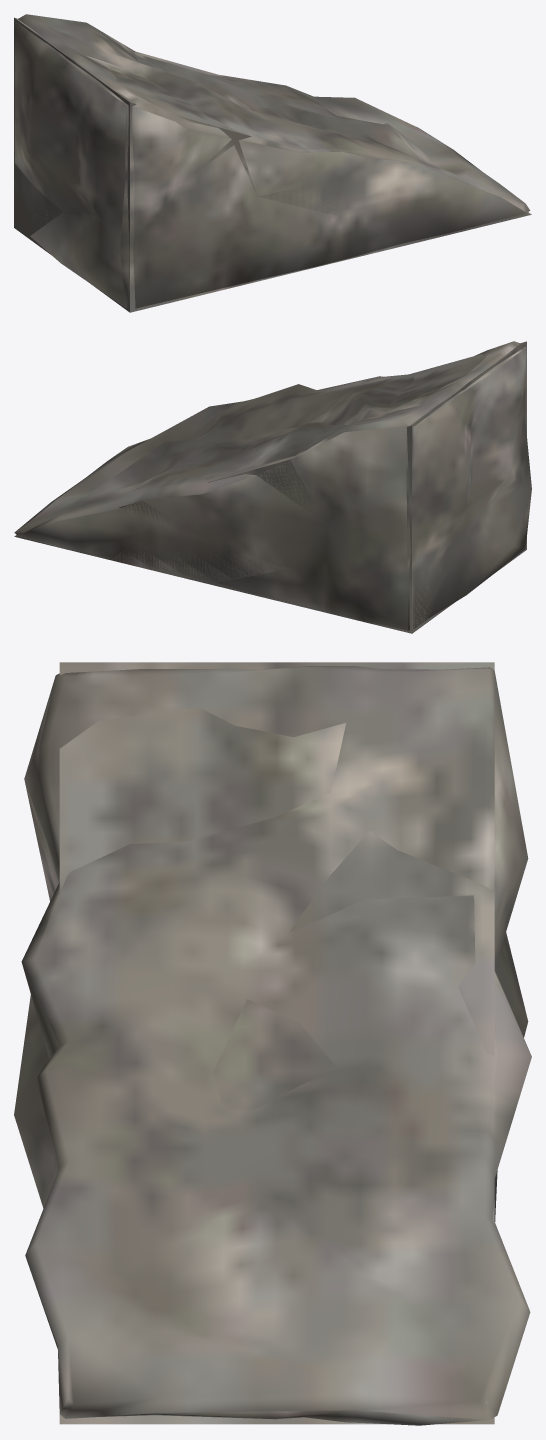
File: 2x1_stone_block.fbx
The picture shows the model from 3 angles, top to bottom: view 1: azimuth 30°, elevation 25°; view 2: azimuth 150°, elevation 25°; view 3: azimuth 270°, elevation 25°; orthographic projection. The views are drawn at different scales.
Visible parts, largest first — view 1: _2x1_high, _2x1_low; view 2: _2x1_high, _2x1_low; view 3: _2x1_high, _2x1_low.
Part boxes in pixels (x1,y1,x2,y2): _2x1_high: (14,14,530,308); _2x1_low: (14,17,531,312); _2x1_high: (14,341,531,630); _2x1_low: (14,341,526,633); _2x1_high: (14,666,531,1425); _2x1_low: (59,662,494,1424).
Size of the model in its own units: 2.09 by 1.08 by 1.19.
